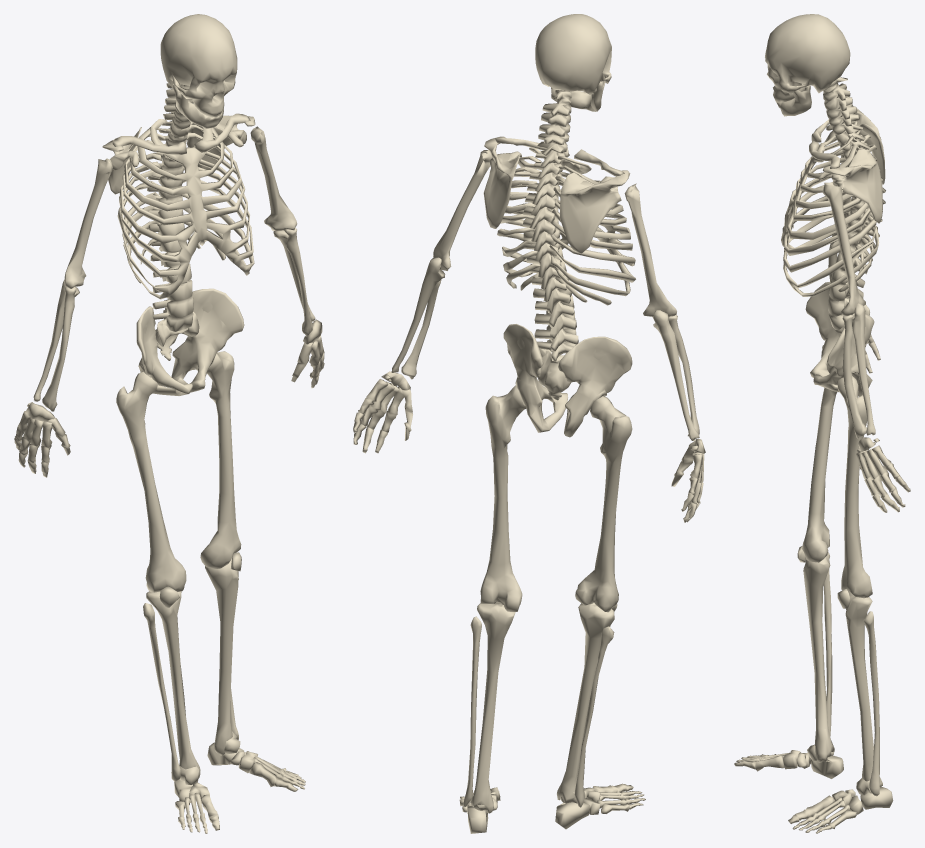
Rendered from Skeleton.obj.
The picture shows the model from 3 angles, left to right: view 1: azimuth 30°, elevation 25°; view 2: azimuth 150°, elevation 25°; view 3: azimuth 270°, elevation 25°; orthographic projection. The views are drawn at different scales.
Parts seen in each view (by area): view 1: Chest, Hip, Head, RightThigh, Left Thigh, Right Shin, Left Shin, Right Hand, RightFor~4, Left Foot, Abdomen, Right Foot (+8 smaller); view 2: Chest, Hip, Head, Left Thigh, RightThigh, Left Shin, Right Shin, RightCol~2, Left Hand, Abdomen, LeftCollar, RightFor~4 (+8 smaller); view 3: Chest, Head, Right Shin, Left Shin, Left Thigh, RightThigh, Hip, LeftCollar, Left Foot, LeftFore~1, Left Hand, Right Foot (+5 smaller).
Part boxes in pixels (x1,y1,x2,y2): Chest: (117, 119, 254, 299); Hip: (136, 288, 244, 395); Head: (160, 14, 237, 117); RightThigh: (116, 371, 186, 592); Left Thigh: (200, 351, 241, 568); Right Shin: (143, 586, 200, 781); Left Shin: (205, 552, 241, 755); Right Hand: (14, 402, 70, 477); RightFor~4: (33, 279, 79, 411); Left Foot: (207, 731, 305, 791); Abdomen: (150, 251, 193, 331); Right Foot: (174, 765, 219, 833); Chest: (497, 147, 635, 305); Hip: (503, 324, 632, 437); Head: (535, 14, 611, 95); Left Thigh: (480, 385, 526, 611); RightThigh: (575, 396, 632, 612); Left Shin: (463, 602, 515, 813); Right Shin: (557, 602, 617, 807); RightCol~2: (560, 149, 630, 253); Left Hand: (353, 371, 412, 453); Abdomen: (533, 288, 578, 361); LeftCollar: (483, 136, 569, 228); RightFor~4: (653, 310, 699, 440); Chest: (781, 121, 885, 296); Head: (765, 14, 850, 102); Right Shin: (797, 546, 834, 762); Left Shin: (837, 589, 882, 796); Left Thigh: (837, 376, 872, 598); RightThigh: (802, 345, 837, 562); Hip: (805, 281, 874, 396); LeftCollar: (809, 141, 882, 223); Left Foot: (788, 778, 893, 833); LeftFore~1: (842, 303, 875, 438); Left Hand: (856, 437, 910, 512); Right Foot: (734, 744, 843, 778).
Bounding box in the file's own units: 0.2917 × 0.6878 × 0.144.
